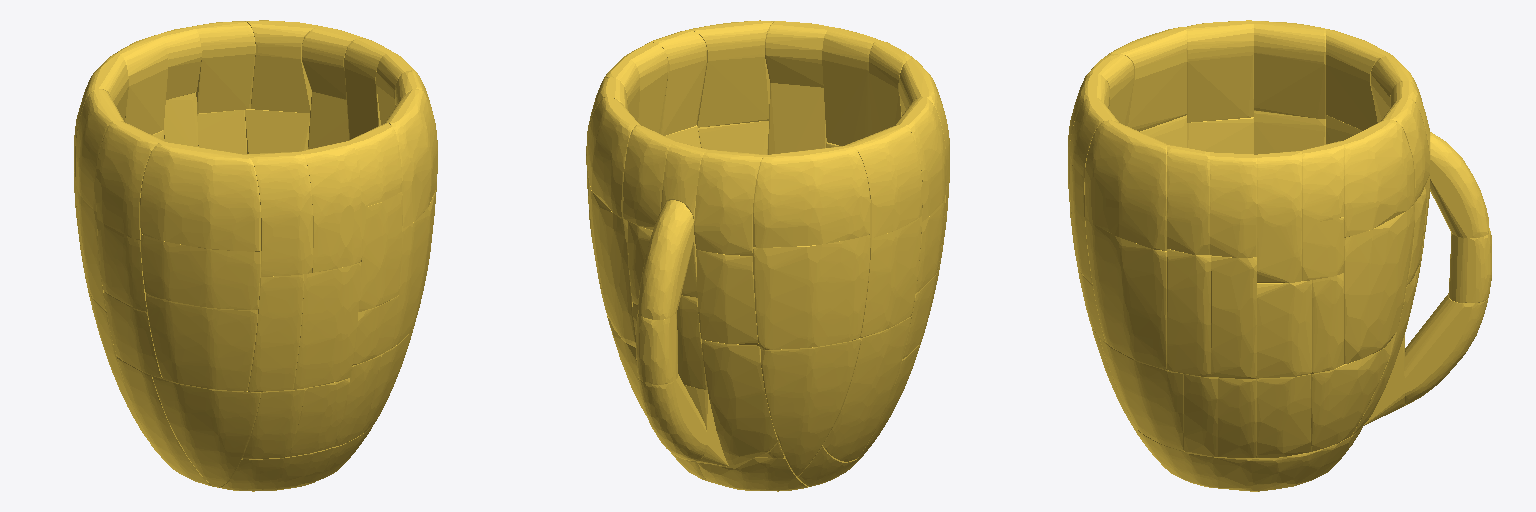
The robot description file, URDF, robot "926.urdf":
<?xml version="1.0" ?>
<robot name="926.urdf">
	<link name="baseLink">
		<inertial>
			<origin rpy="0 0 0" xyz="0 0 0"/>
				<mass value="0.1"/>
				<inertia ixx="6e-5" ixy="0" ixz="0" iyy="6e-5" iyz="0" izz="6e-5"/>
		</inertial>
		<visual>
			<origin rpy="0 0 0" xyz="0 0 0"/>
			<geometry>
				<mesh filename="2_decom_wt.obj" scale="1.07 1.07 1.01"/>
			</geometry>
			<material name="yellow">
				<color rgba="0.98 0.84 0.35 1"/>
			</material>
		</visual>
		<collision>
			<origin rpy="0 0 0" xyz="0 0 0"/>
			<geometry>
				<mesh filename="2_decom_wt.obj" scale="1.07 1.07 1.01"/>
			</geometry>
		</collision>
	</link>
</robot>

--- Facts derived from the render (not from the file) ---
Views: 3 orthographic renders of the robot side by side, from view 1: azimuth 30°, elevation 25°; view 2: azimuth 150°, elevation 25°; view 3: azimuth 270°, elevation 25°.
Robot: 926.urdf — 1 links, 0 joints (none); root link baseLink; default pose: every joint at zero.
Visible links, largest first — view 1: baseLink; view 2: baseLink; view 3: baseLink.
Link boxes in pixels (left/top/right/bottom): baseLink: left=74, top=20, right=437, bottom=491; baseLink: left=586, top=20, right=949, bottom=491; baseLink: left=1068, top=20, right=1491, bottom=491.
Bounding box of the posed robot: 0.0934 × 0.1092 × 0.1042 m (x, y, z).
Meshes: 1 distinct files referenced, 1 mesh visuals loaded (1 OBJ).